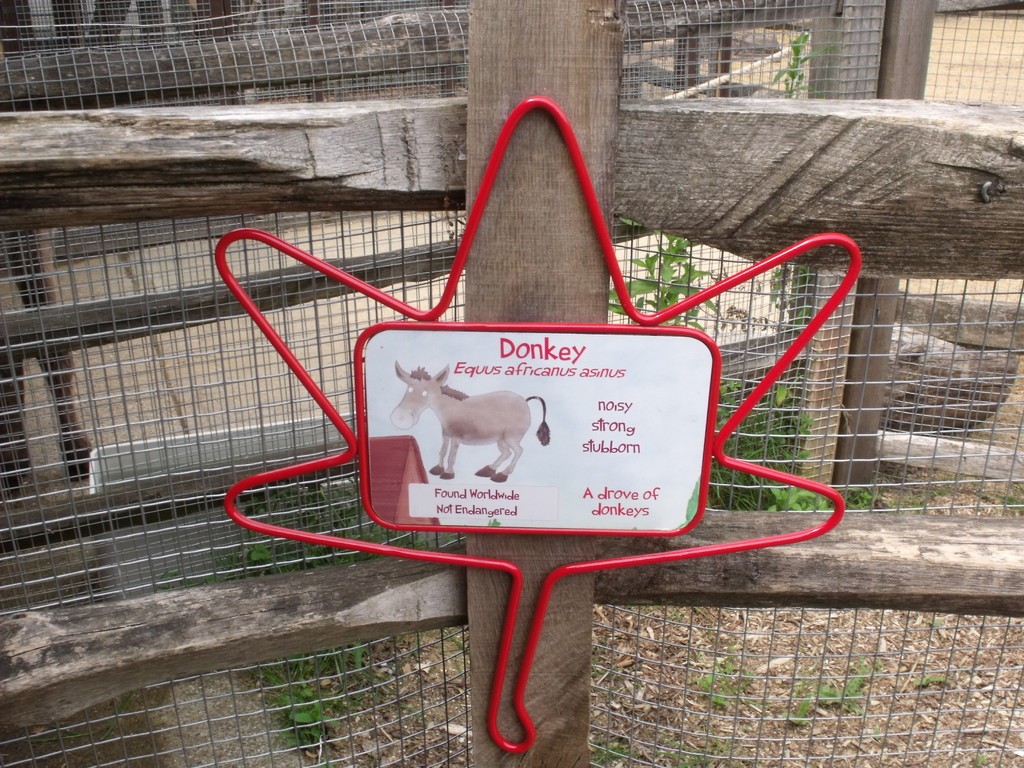Animal: (391, 363, 549, 494)
